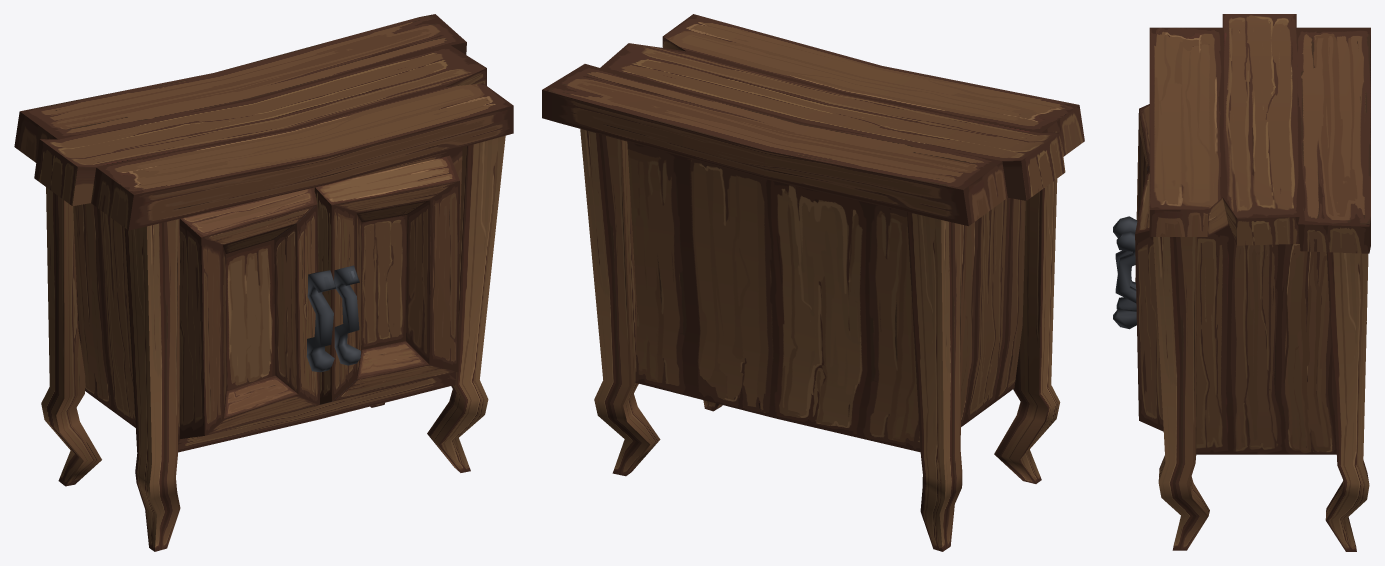
Rendered from SM_PROP_cabinet_interior_03.fbx.
3 renders of one model, left to right at view 1: azimuth 30°, elevation 25°; view 2: azimuth 150°, elevation 25°; view 3: azimuth 270°, elevation 25°, orthographic. The views are drawn at different scales.
Parts seen in each view (by area): view 1: SM_PROP_cabinet_interior_03, SM_PROP_cabinet_door_01_interior_03, SM_PROP_cabinet_door_02_interior_03; view 2: SM_PROP_cabinet_interior_03; view 3: SM_PROP_cabinet_interior_03, SM_PROP_cabinet_door_02_interior_03, SM_PROP_cabinet_door_01_interior_03.
Part boxes in pixels (left/top/right/bottom): SM_PROP_cabinet_interior_03: left=14, top=14, right=513, bottom=551; SM_PROP_cabinet_door_01_interior_03: left=179, top=188, right=336, bottom=438; SM_PROP_cabinet_door_02_interior_03: left=314, top=155, right=459, bottom=404; SM_PROP_cabinet_interior_03: left=542, top=14, right=1084, bottom=551; SM_PROP_cabinet_interior_03: left=1149, top=14, right=1370, bottom=551; SM_PROP_cabinet_door_02_interior_03: left=1113, top=173, right=1163, bottom=431; SM_PROP_cabinet_door_01_interior_03: left=1113, top=104, right=1149, bottom=310.
Bounding box in the file's own units: 110 × 90.16 × 58.05.
